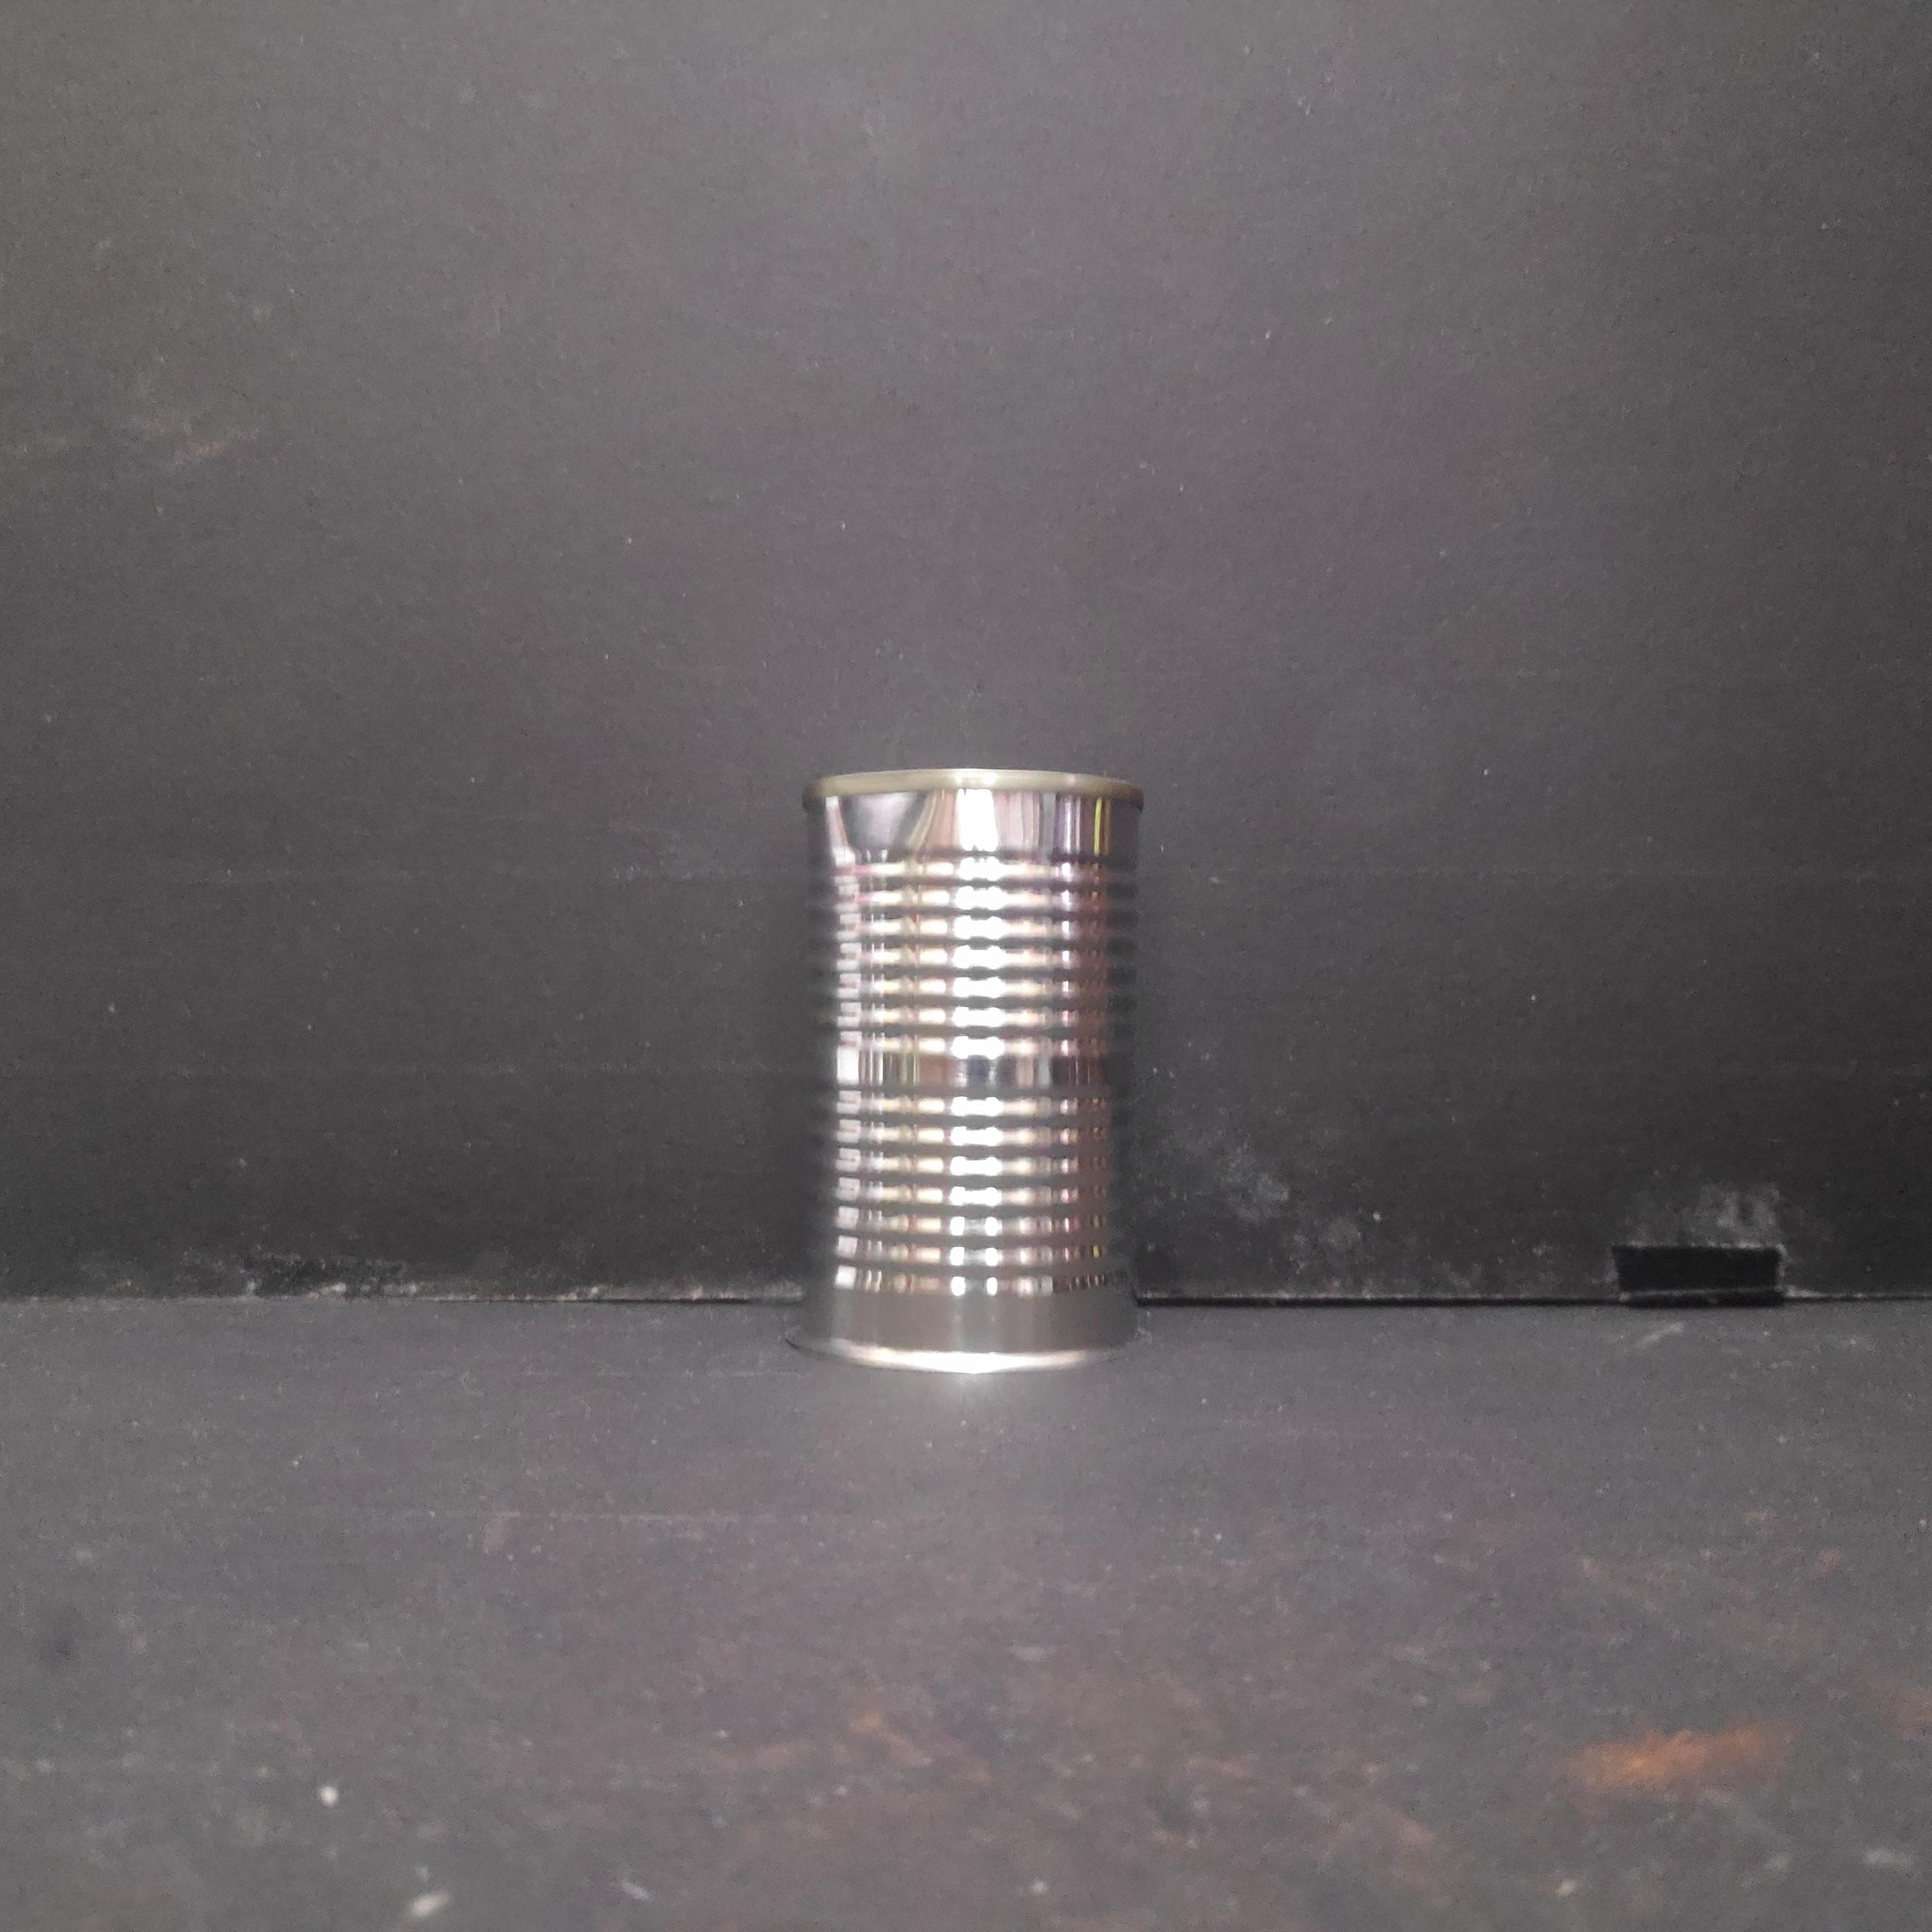Minor Defect: (800, 761, 1154, 1382)
